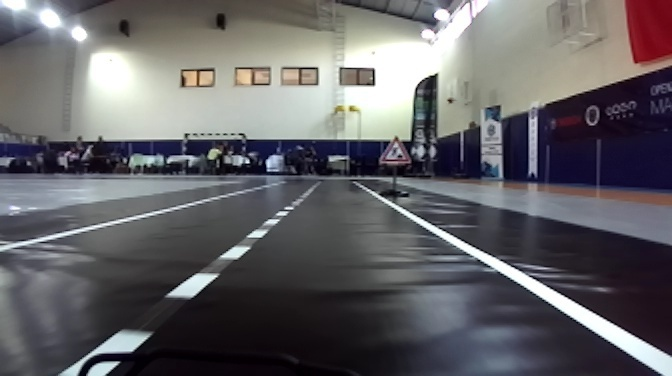yol_yapimi: (376, 129, 412, 166)
